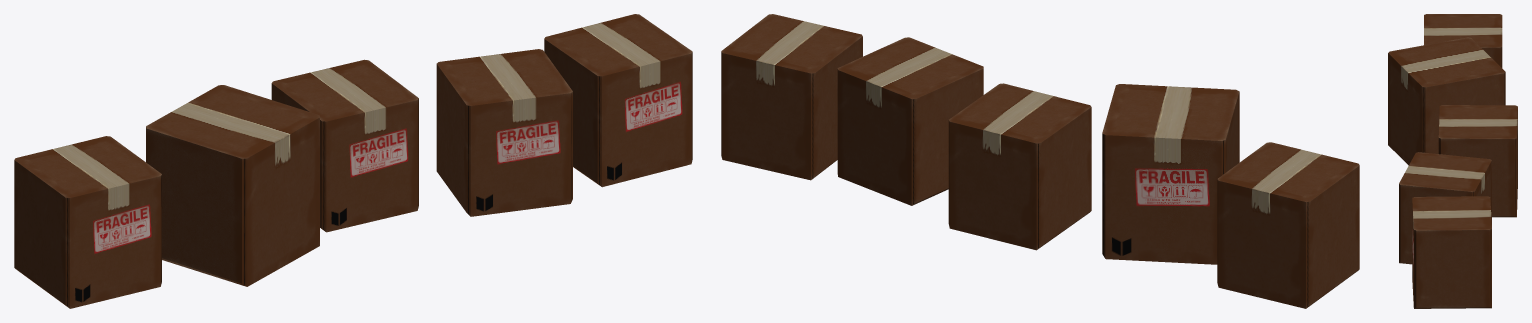
Rendered from box_pile2.fbx.
3 renders of one model, left to right at view 1: azimuth 30°, elevation 25°; view 2: azimuth 150°, elevation 25°; view 3: azimuth 270°, elevation 25°, orthographic. The views are drawn at different scales.
Parts seen in each view (by area): view 1: pile_boite_2; view 2: pile_boite_2; view 3: pile_boite_2.
Boxes of the visible parts, x1,y1,x2,y2 form: pile_boite_2: [14, 14, 692, 308]; pile_boite_2: [721, 14, 1359, 308]; pile_boite_2: [1388, 14, 1517, 308].
Bounding box in the file's own units: 577 × 117 × 146.
